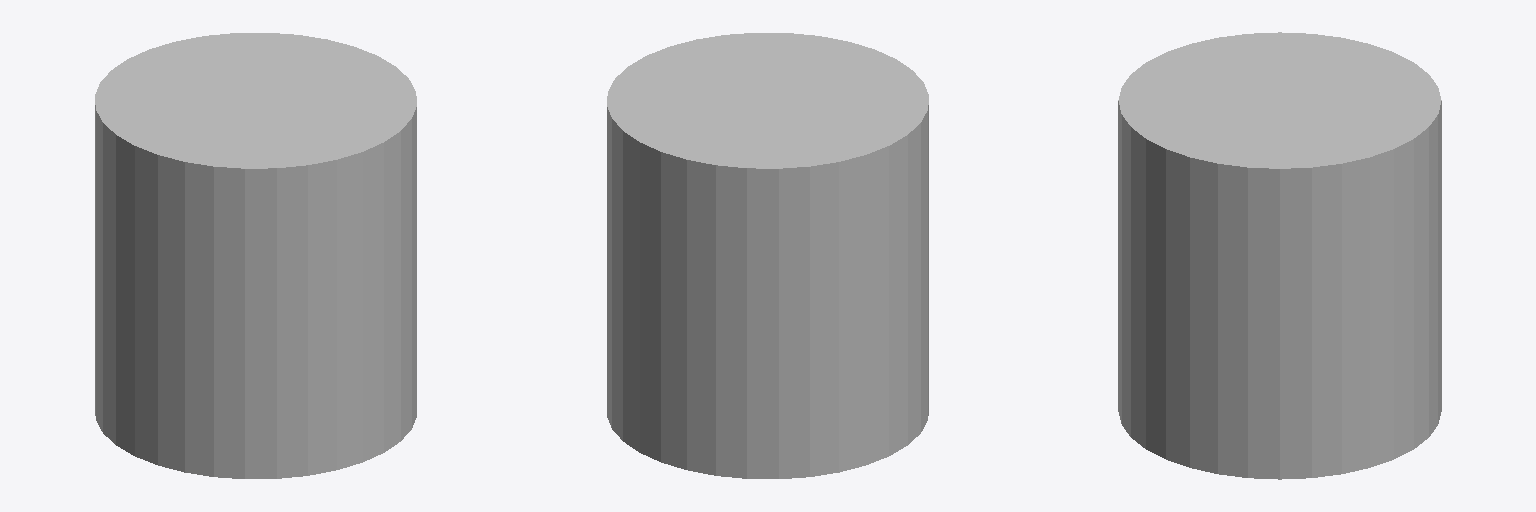
The model's file is can_frame5.obj.
3 views of the same model, side by side, from view 1: azimuth 30°, elevation 25°; view 2: azimuth 150°, elevation 25°; view 3: azimuth 270°, elevation 25° (orthographic).
Visible parts, largest first — view 1: Cylinder; view 2: Cylinder; view 3: Cylinder.
Part boxes in pixels (bbox=[...]): Cylinder: bbox=[95, 33, 416, 478]; Cylinder: bbox=[607, 33, 928, 478]; Cylinder: bbox=[1118, 32, 1441, 479].
Bounding box in the file's own units: 2 × 2.12 × 2.